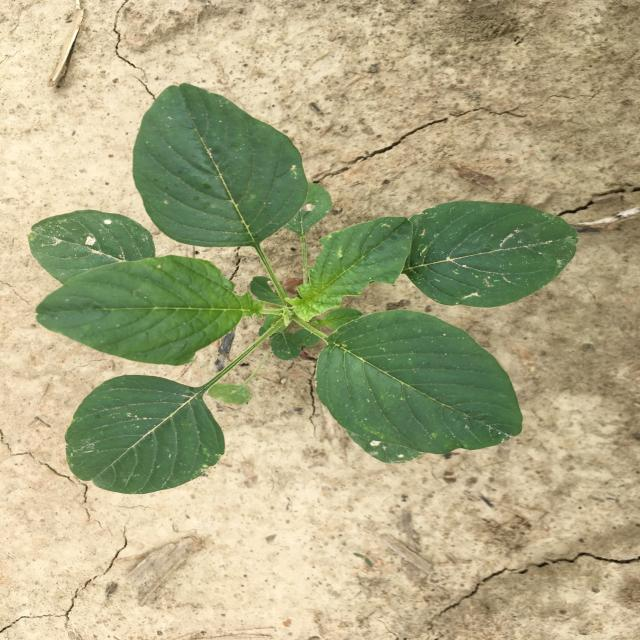PalmerAmaranth: (28, 82, 578, 494)
